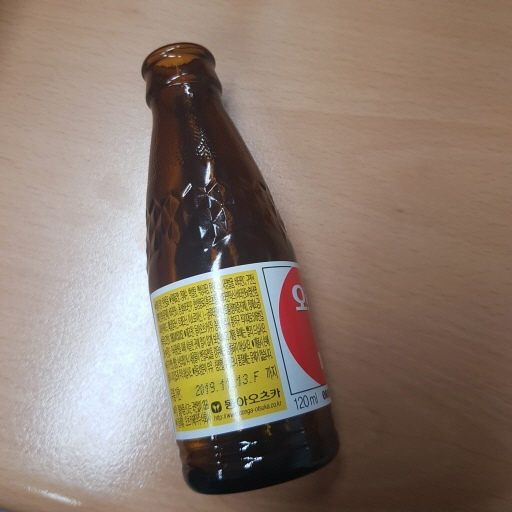Glass_3: (138, 38, 343, 496)
